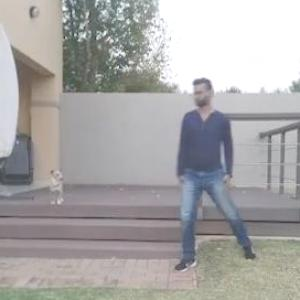follow: (183, 78, 238, 254)
